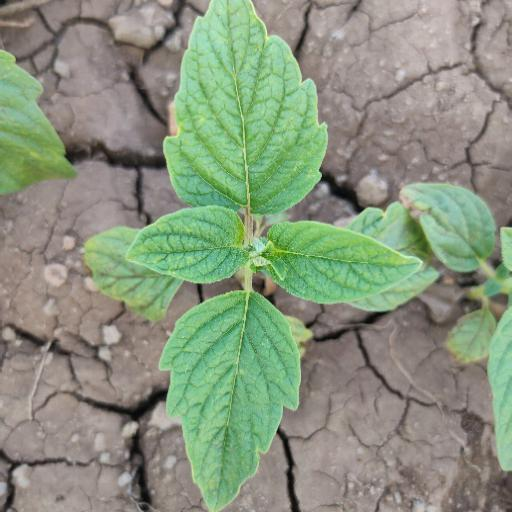crop: (78, 4, 440, 512)
